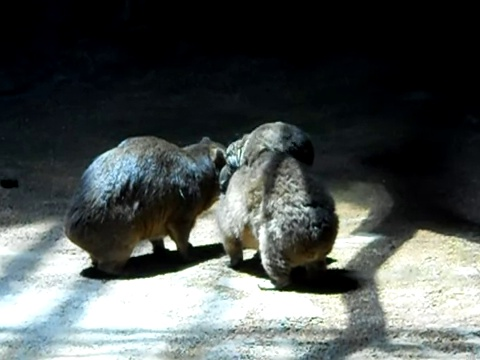Rock Hyrex: (60, 131, 231, 274), (225, 121, 335, 290)
